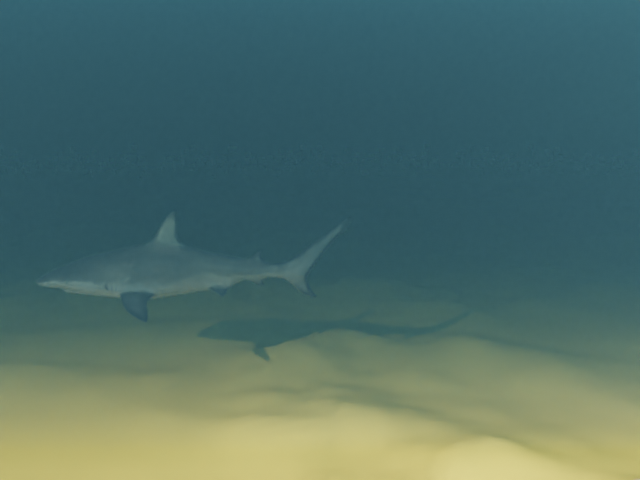Carribean Shark.001: (35, 211, 352, 322)
